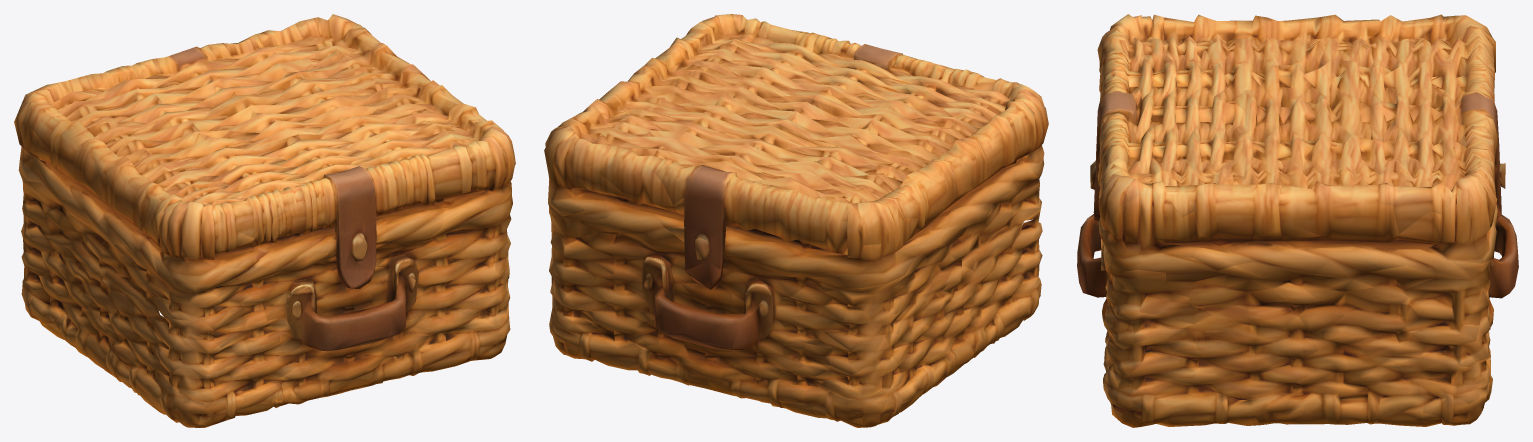
File: basket-v1.glb
3 views of the same model, side by side, from view 1: azimuth 30°, elevation 25°; view 2: azimuth 150°, elevation 25°; view 3: azimuth 270°, elevation 25° (orthographic). The views are drawn at different scales.
Parts seen in each view (by area): view 1: basket; view 2: basket; view 3: basket.
Boxes of the visible parts, x1,y1,x2,y2 form: basket: (14, 14, 515, 427); basket: (544, 14, 1048, 427); basket: (1077, 14, 1518, 427).
Size of the model in its own units: 0.78 by 0.48 by 0.78.
Materials: 1 (1 with a texture image).
